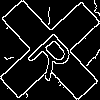R: (25, 25, 83, 82)
